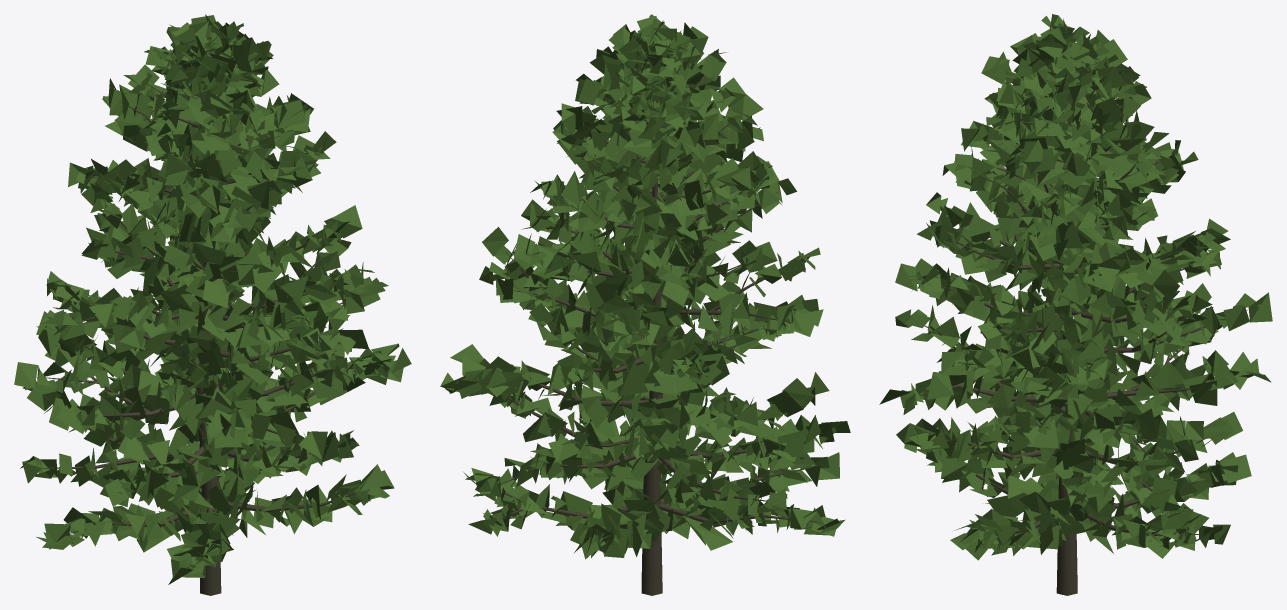
File: tree-fake.gltf
The picture shows the model from 3 angles, left to right: view 1: azimuth 30°, elevation 25°; view 2: azimuth 150°, elevation 25°; view 3: azimuth 270°, elevation 25°; orthographic projection.
Parts seen in each view (by area): view 1: 13K.001; view 2: 13K.001; view 3: 13K.001.
Part boxes in pixels (x1,y1,x2,y2): 13K.001: [14, 14, 411, 595]; 13K.001: [440, 14, 850, 595]; 13K.001: [879, 14, 1272, 595].
Size of the model in its own units: 4.89 by 7.13 by 4.5.
